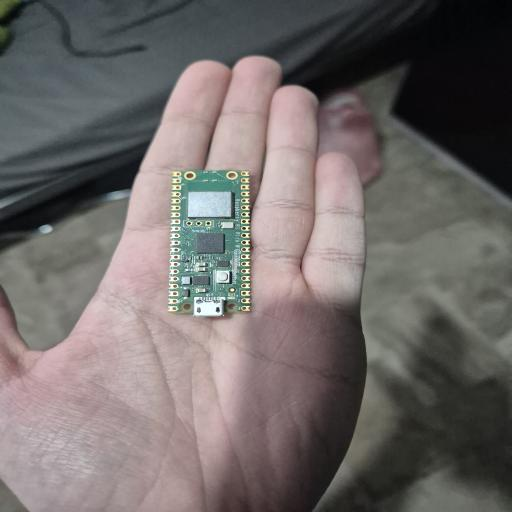raspberry-pi-pico-w: (168, 170, 250, 317)
